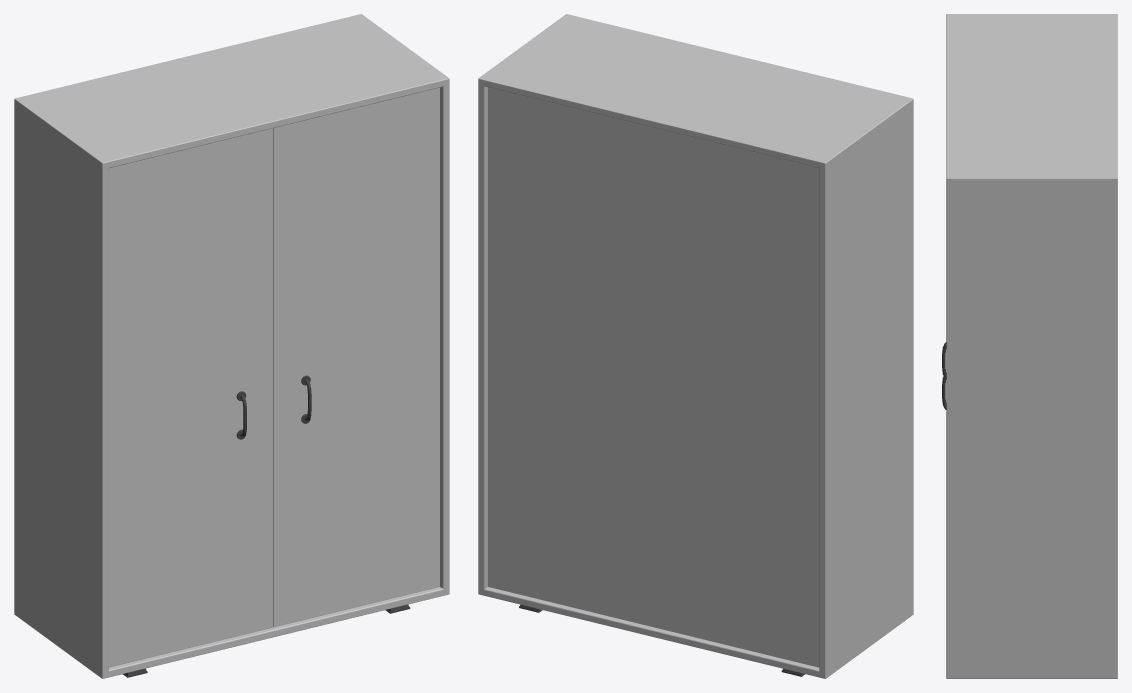
The model's file is Closet.fbx.
The picture shows the model from 3 angles, left to right: view 1: azimuth 30°, elevation 25°; view 2: azimuth 150°, elevation 25°; view 3: azimuth 270°, elevation 25°; orthographic projection. The views are drawn at different scales.
Visible parts, largest first — view 1: Closet, DoorRight, DoorLeft; view 2: Closet; view 3: Closet.
Boxes of the visible parts, <box> form: Closet: <box>14,14,449,678</box>; DoorRight: <box>273,87,439,627</box>; DoorLeft: <box>109,128,272,667</box>; Closet: <box>478,14,913,678</box>; Closet: <box>946,14,1117,678</box>.
Bounding box in the file's own units: 141 × 205 × 63.67.
